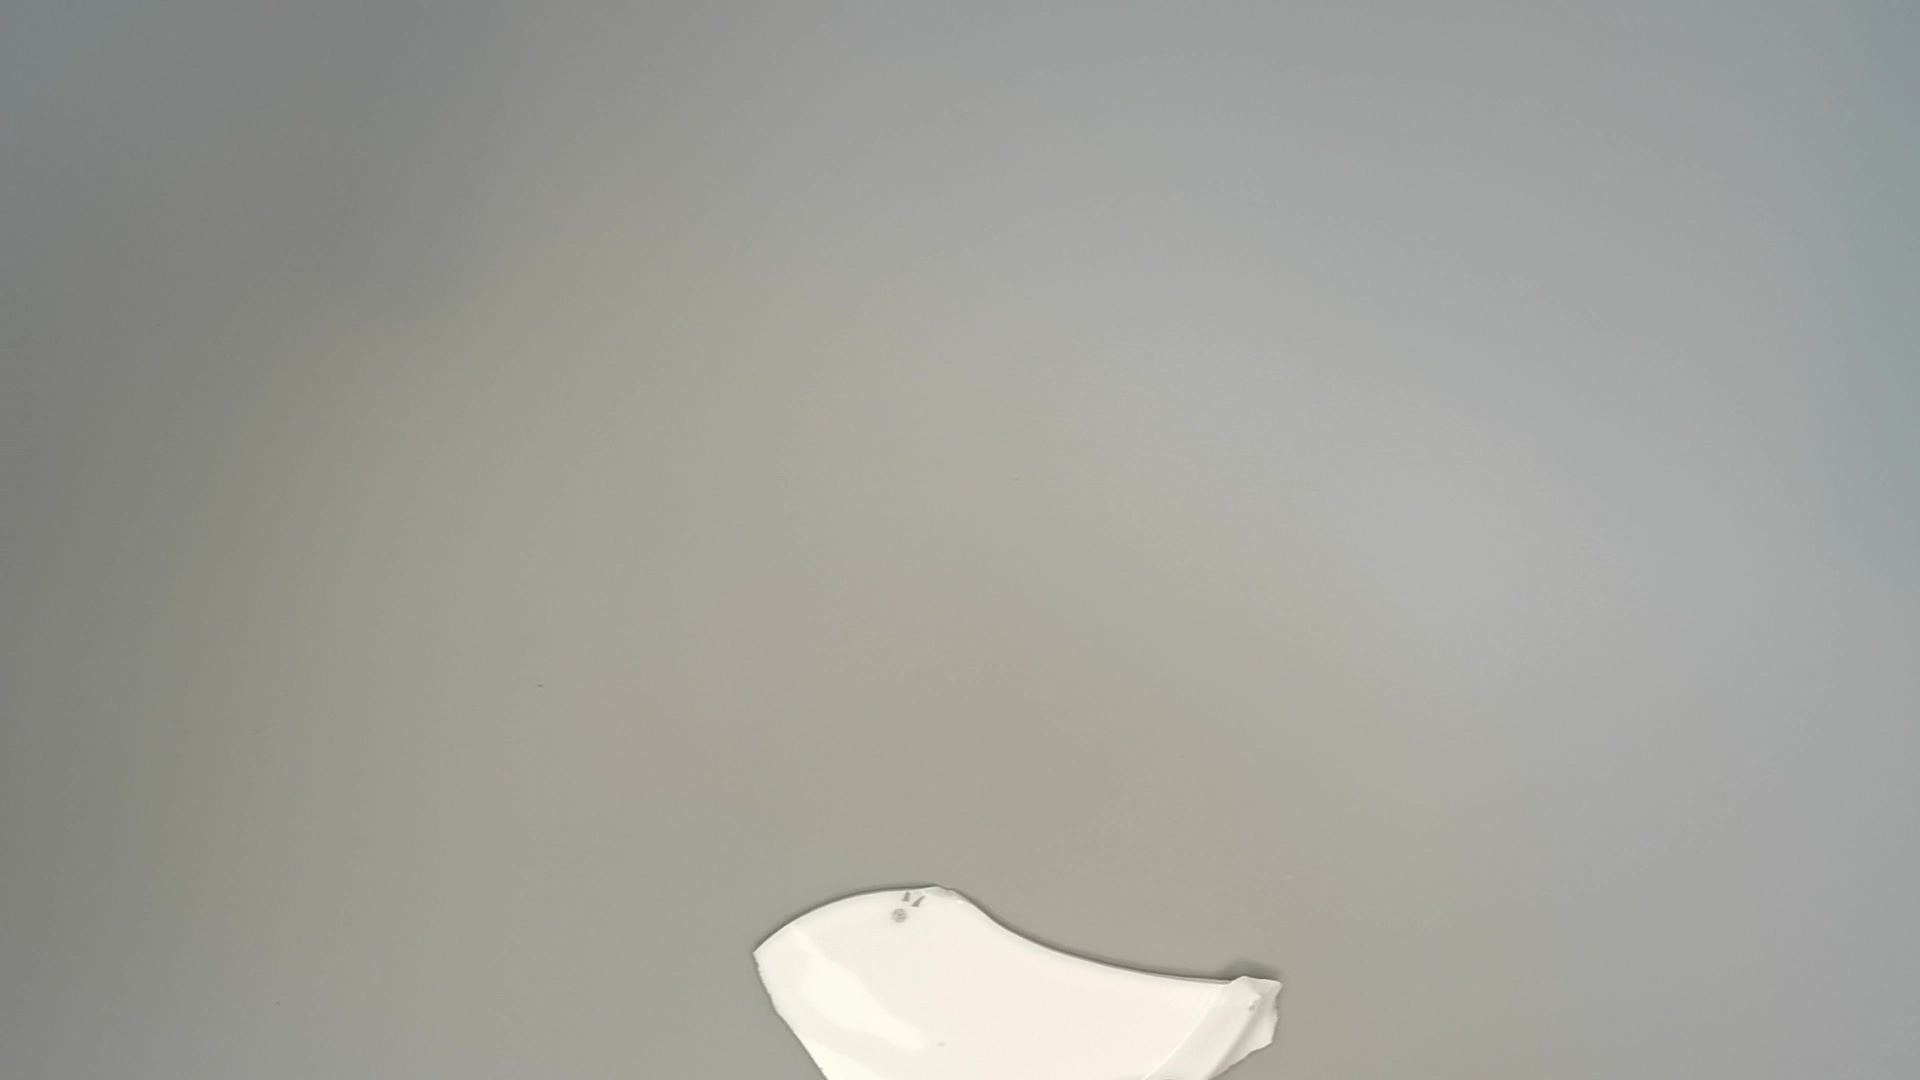ceramic: (752, 876, 1288, 1080)
